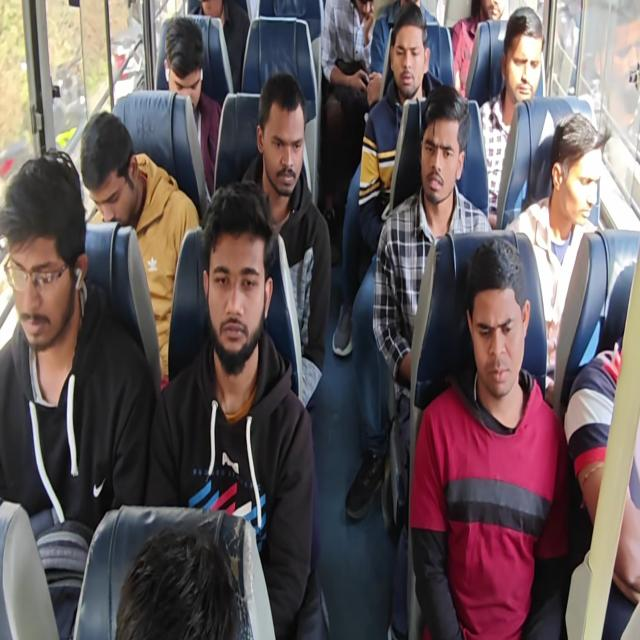person: (1, 1, 638, 638), (145, 180, 329, 638), (0, 150, 156, 638), (345, 84, 494, 520), (410, 236, 570, 638), (80, 110, 200, 388), (240, 72, 332, 408), (504, 111, 609, 402), (357, 3, 444, 252), (564, 336, 640, 606), (478, 7, 544, 227), (114, 525, 241, 639), (319, 0, 380, 223), (162, 16, 222, 198), (187, 0, 250, 94), (451, 0, 505, 99), (369, 0, 421, 76)
